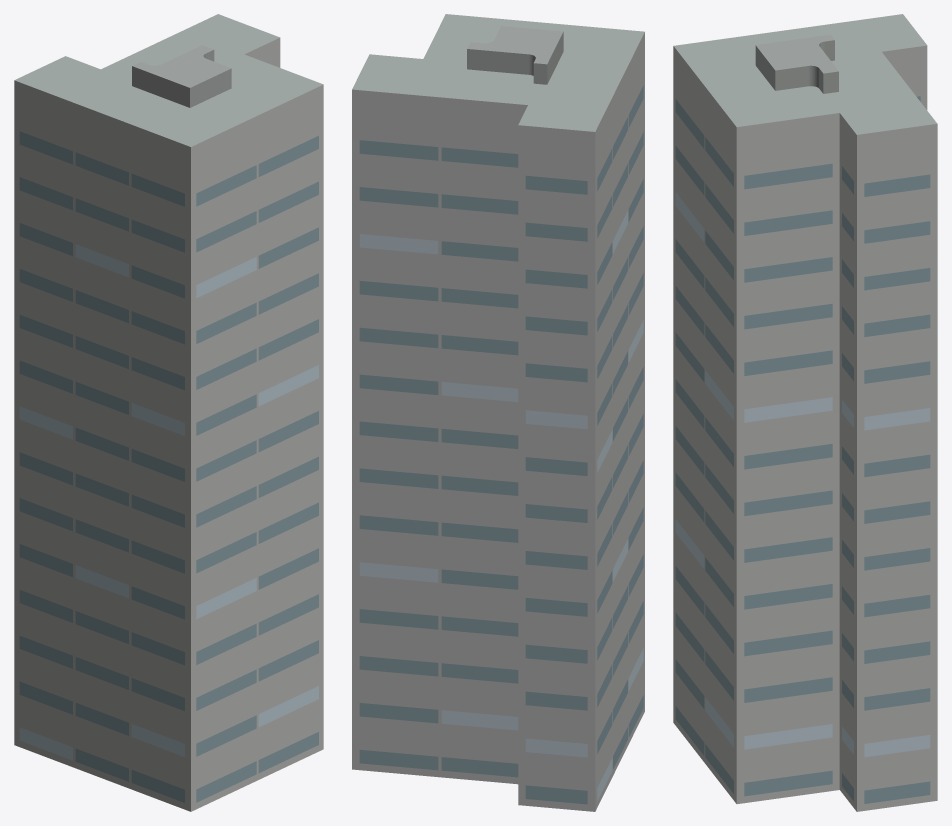
File: fallback-songpa-helio-city-317.glb
3 renders of one model, left to right at view 1: azimuth 30°, elevation 25°; view 2: azimuth 150°, elevation 25°; view 3: azimuth 270°, elevation 25°, orthographic. The views are drawn at different scales.
Parts seen in each view (by area): view 1: fallback-songpa-helio-city-317; view 2: fallback-songpa-helio-city-317; view 3: fallback-songpa-helio-city-317.
Boxes of the visible parts, x1,y1,x2,y2 form: fallback-songpa-helio-city-317: (14, 14, 323, 811); fallback-songpa-helio-city-317: (352, 14, 644, 811); fallback-songpa-helio-city-317: (673, 14, 937, 811).
Size of the model in its own units: 30.5 by 82 by 28.13.
